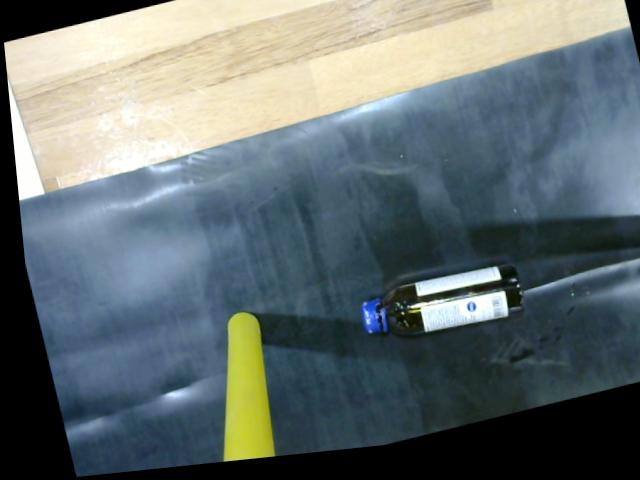glass: (352, 270, 522, 351)
